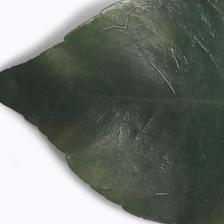healthy: (9, 11, 224, 223)
